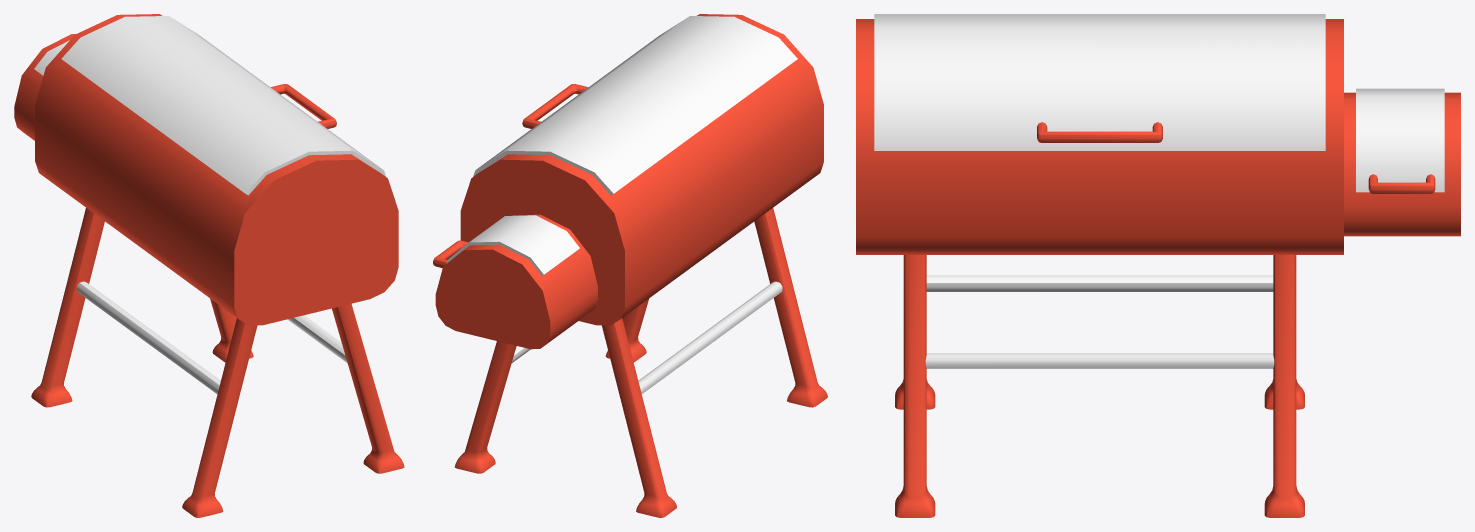
The model's file is Grill.fbx.
3 views of the same model, side by side, from view 1: azimuth 30°, elevation 25°; view 2: azimuth 150°, elevation 25°; view 3: azimuth 270°, elevation 25° (orthographic). The views are drawn at different scales.
Visible parts, largest first — view 1: Grill; view 2: Grill; view 3: Grill.
Part boxes in pixels (<box>): Grill: <box>14,14,404,517</box>; Grill: <box>433,14,827,517</box>; Grill: <box>856,14,1460,517</box>.
Size of the model in its own units: 0.6647 by 1.05 by 1.36.
